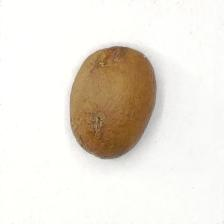NG: (97, 44, 126, 69), (86, 111, 110, 136)
